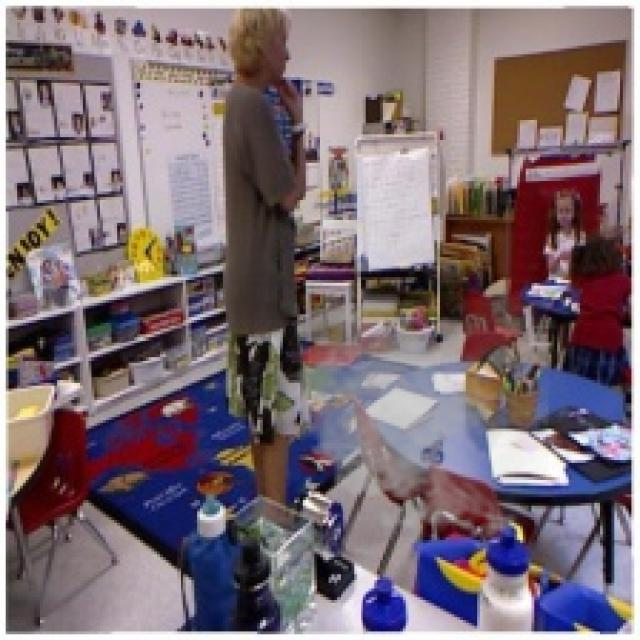smoke: (274, 294, 549, 546)
